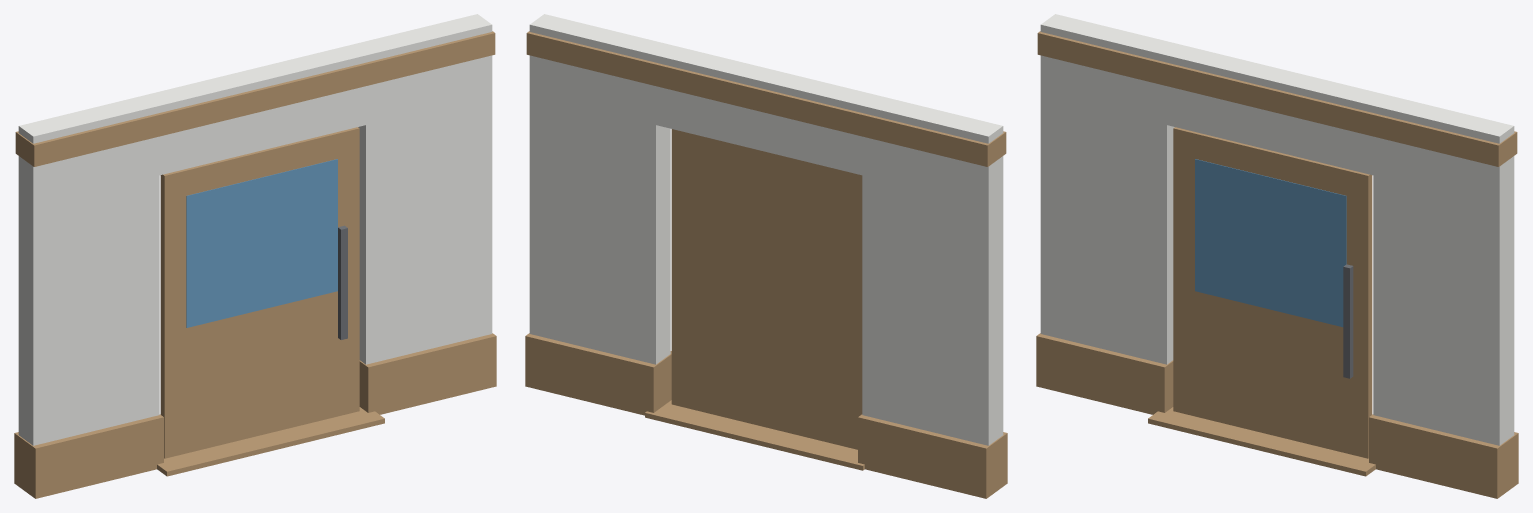
The model's file is tennis-club-and-courts-clubhouse-door-bay-d8889571__33636.glb.
3 renders of one model, left to right at view 1: azimuth 30°, elevation 25°; view 2: azimuth 150°, elevation 25°; view 3: azimuth 330°, elevation 25°, orthographic.
Parts seen in each view (by area): view 1: clubhouse-door-bay, door/timber, door/court, door/charcoal; view 2: clubhouse-door-bay, door/timber; view 3: clubhouse-door-bay, door/timber, door/court, door/charcoal.
Part boxes in pixels (x1=…): clubhouse-door-bay: x1=14, y1=14, x2=496, y2=498; door/timber: x1=160, y1=127, x2=359, y2=458; door/court: x1=186, y1=159, x2=337, y2=327; door/charcoal: x1=338, y1=225, x2=347, y2=339; clubhouse-door-bay: x1=525, y1=14, x2=1007, y2=498; door/timber: x1=671, y1=129, x2=862, y2=449; clubhouse-door-bay: x1=1036, y1=14, x2=1518, y2=498; door/timber: x1=1173, y1=127, x2=1372, y2=458; door/court: x1=1195, y1=159, x2=1346, y2=327; door/charcoal: x1=1343, y1=264, x2=1353, y2=378.
Bounding box in the file's own units: 4.02 × 3 × 0.5001.
